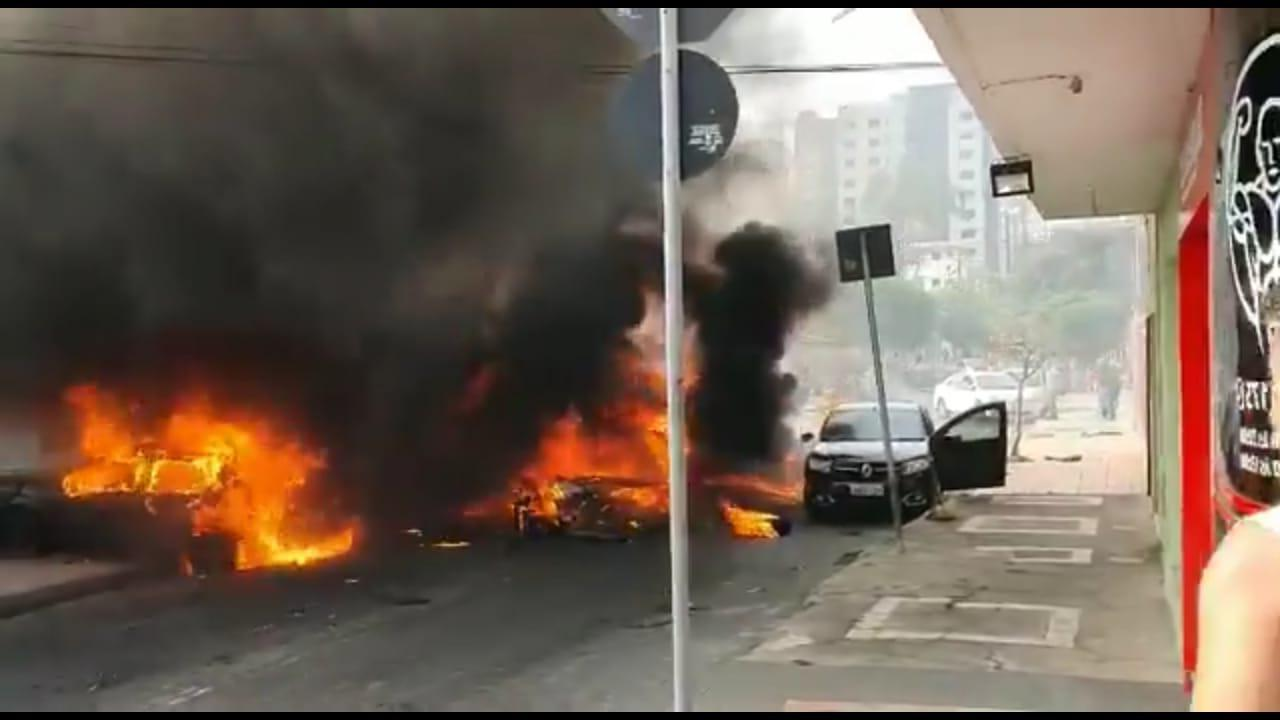Fire: (47, 387, 374, 571), (525, 327, 684, 519), (725, 497, 777, 545)
